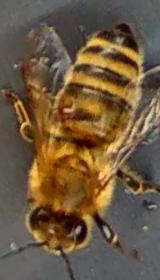varroa_mite: (46, 100, 88, 130)
